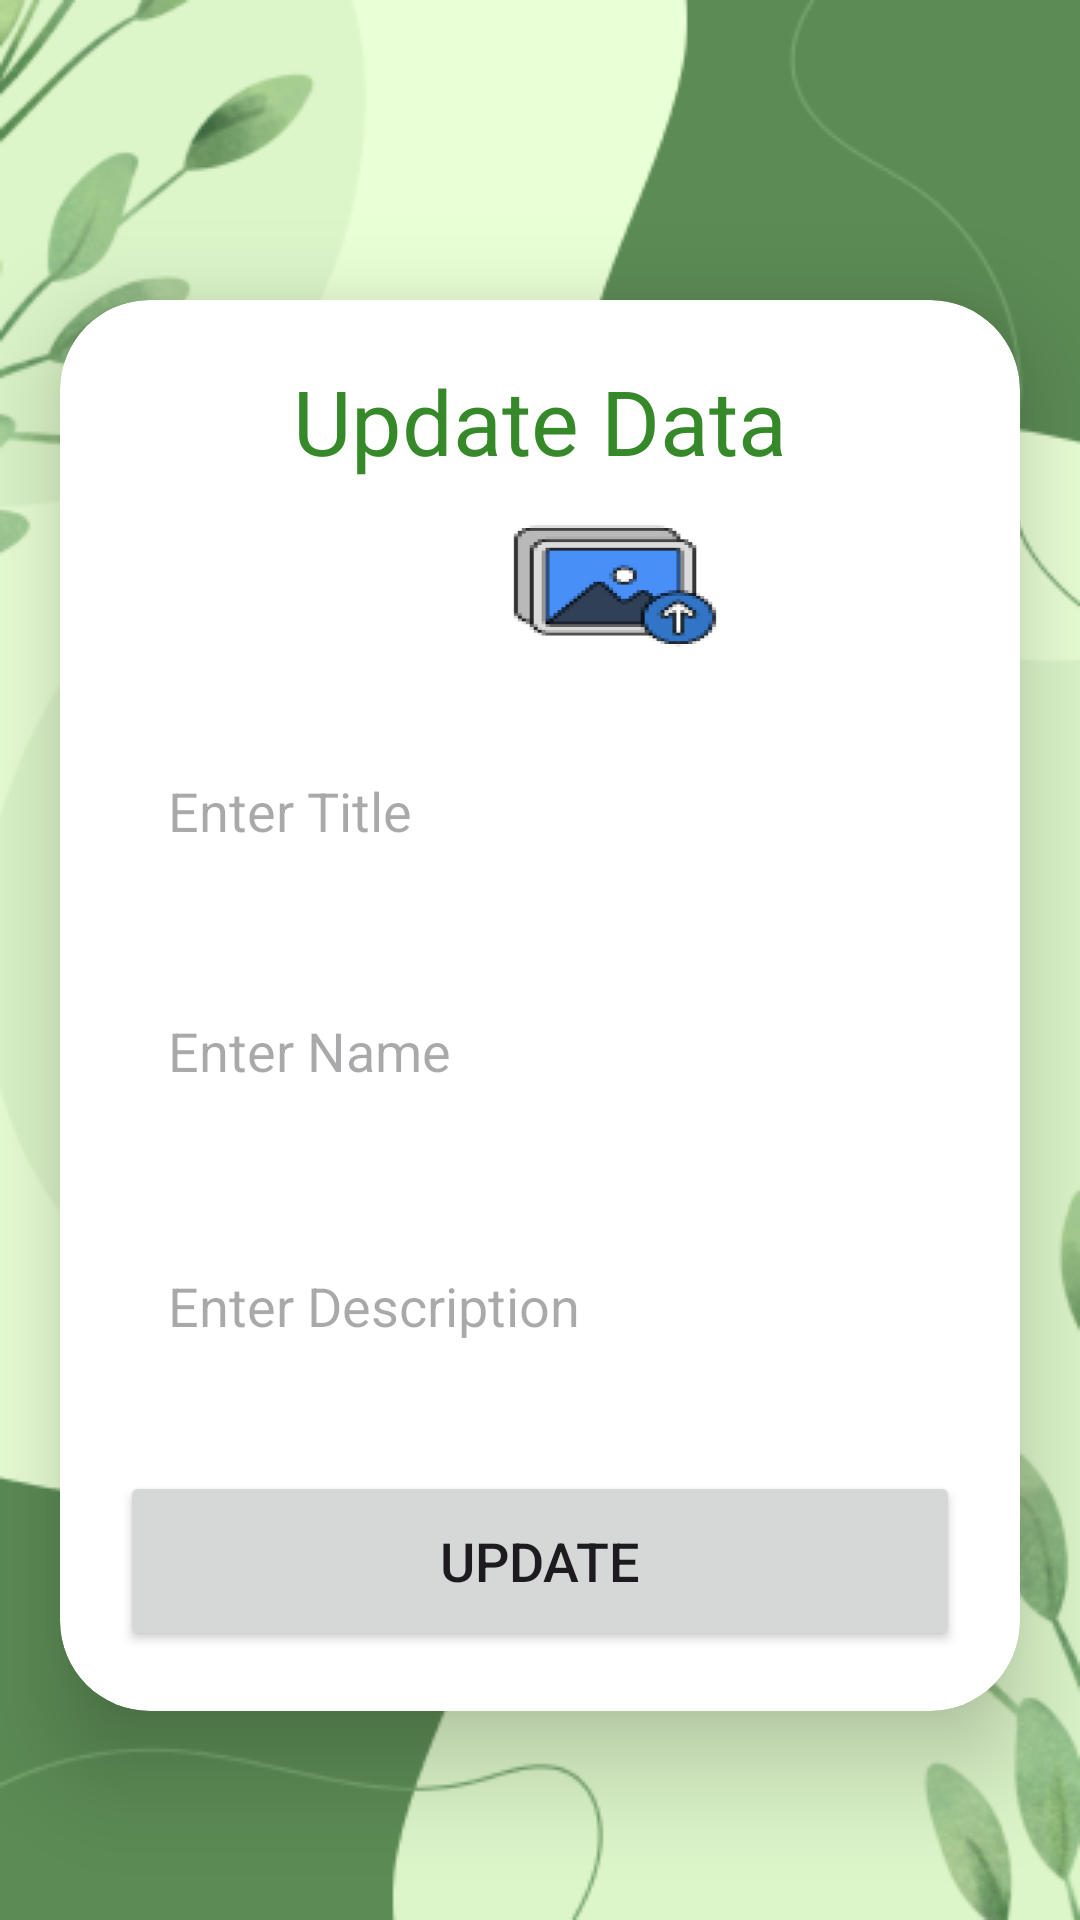

Icon bounding boxes for this 1080w x 1920h phone screenshot, format bbox=(x1, y1, x2, y2):
uploadphoto: bbox=(513, 525, 717, 644)
